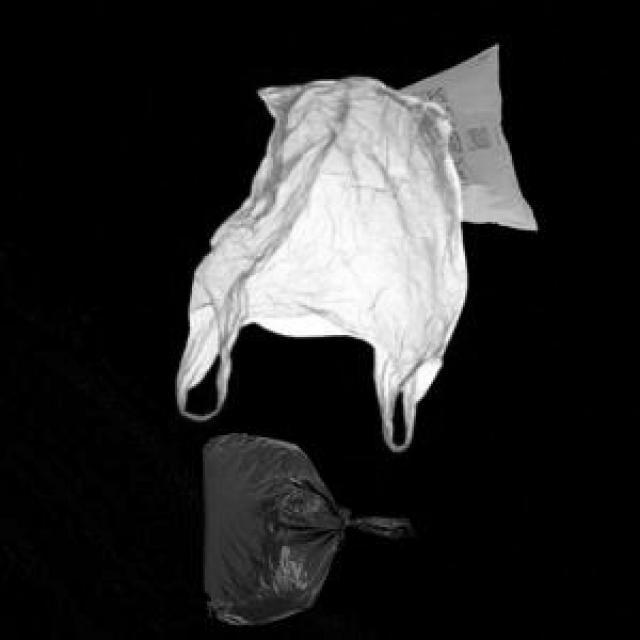miscellaneous trash: (198, 429, 410, 621)
